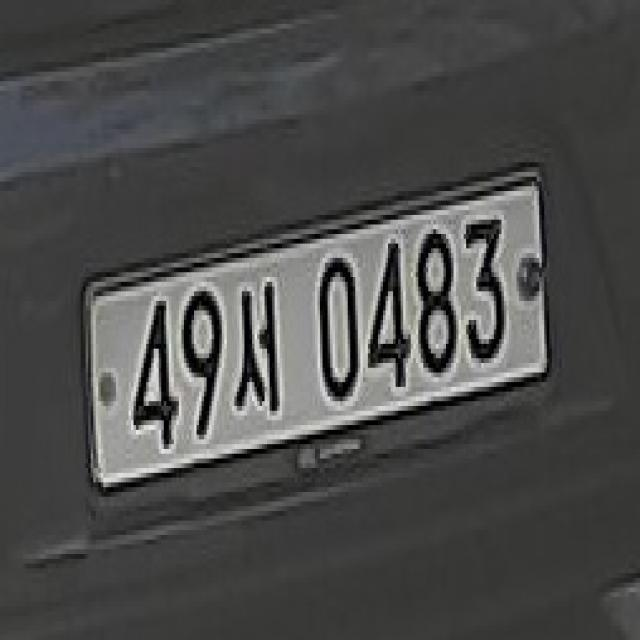0: (318, 251, 360, 406)
3: (466, 214, 510, 372)
4: (128, 288, 179, 461), (368, 228, 410, 398)
8: (418, 218, 456, 378)
9: (182, 276, 224, 442)
license_plate: (77, 166, 554, 522)
seo: (232, 268, 290, 432)
